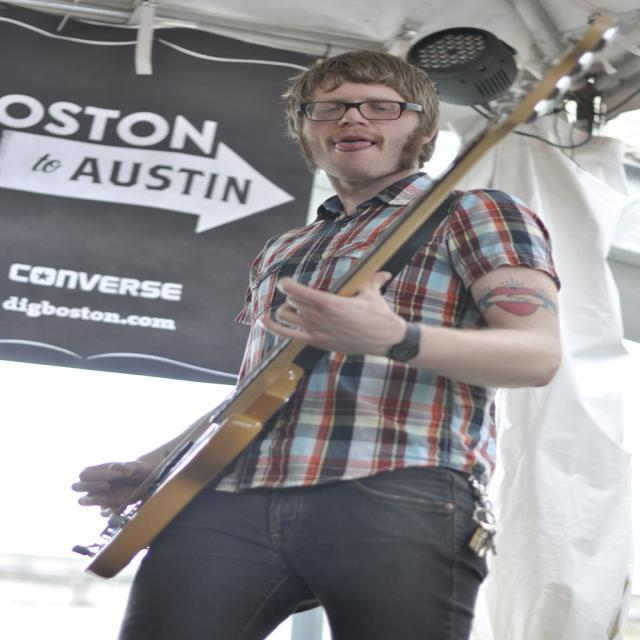no_helmet: (280, 45, 397, 100)
